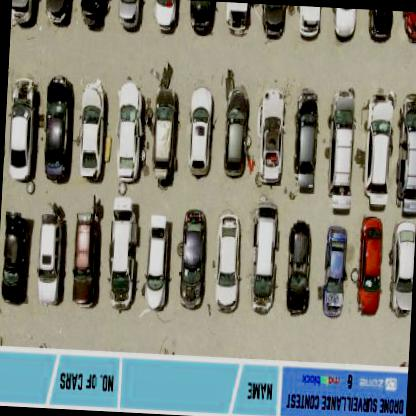car: (324, 92, 355, 214), (360, 94, 394, 204), (105, 197, 138, 309), (248, 200, 280, 314), (40, 75, 74, 182), (211, 208, 243, 312), (176, 208, 209, 308), (70, 210, 102, 308), (76, 78, 106, 180), (353, 215, 383, 314), (114, 82, 142, 186), (140, 211, 170, 308), (150, 84, 180, 180), (0, 210, 30, 304), (220, 85, 250, 177), (5, 76, 32, 178), (290, 90, 317, 192), (284, 222, 312, 316), (184, 83, 212, 177), (258, 88, 284, 186), (34, 214, 62, 304), (318, 225, 346, 315), (394, 90, 415, 209), (388, 218, 414, 314), (185, 0, 215, 34), (222, 2, 251, 36), (259, 3, 286, 38), (327, 7, 355, 38), (151, 0, 177, 32), (41, 0, 70, 26), (114, 0, 140, 29), (366, 9, 392, 38), (295, 6, 320, 36), (76, 0, 105, 25)
